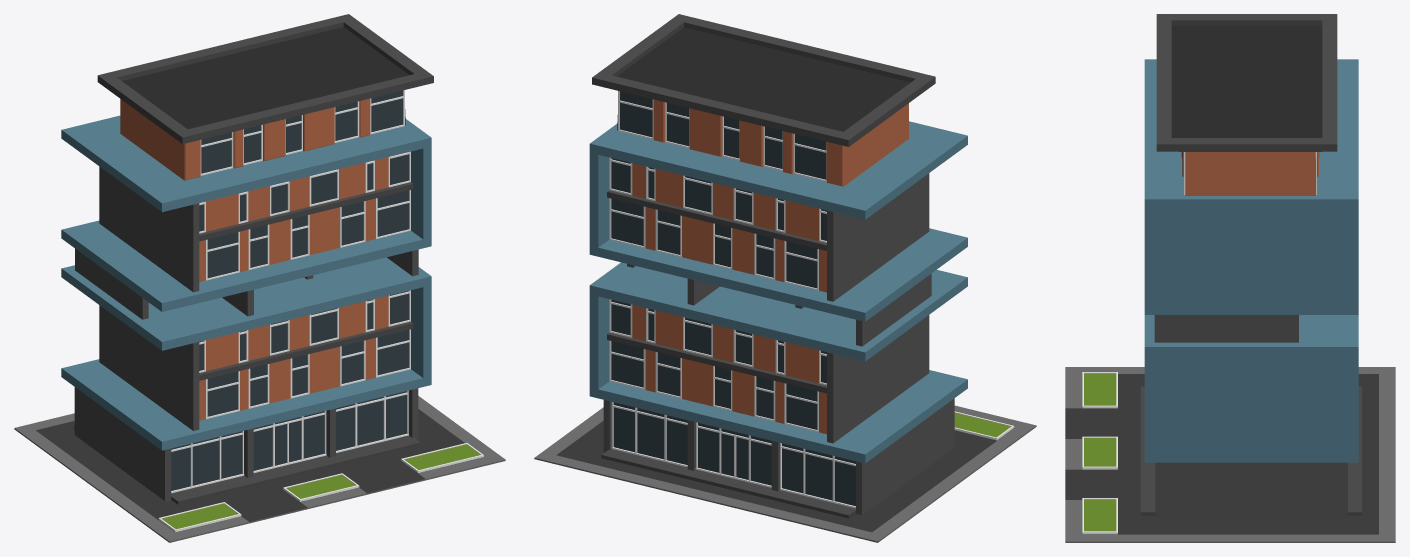
File: bldg-sky-b.glb
3 renders of one model, left to right at view 1: azimuth 30°, elevation 25°; view 2: azimuth 150°, elevation 25°; view 3: azimuth 270°, elevation 25°, orthographic. The views are drawn at different scales.
Parts seen in each view (by area): view 1: highlivingbuilding_b; view 2: highlivingbuilding_b; view 3: highlivingbuilding_b.
Part boxes in pixels (<box>): highlivingbuilding_b: <box>14,14,505,542</box>; highlivingbuilding_b: <box>534,14,1036,542</box>; highlivingbuilding_b: <box>1065,14,1395,542</box>.
Bounding box in the file's own units: 25 × 25.62 × 20.
Materials: 1 (1 with a texture image).
